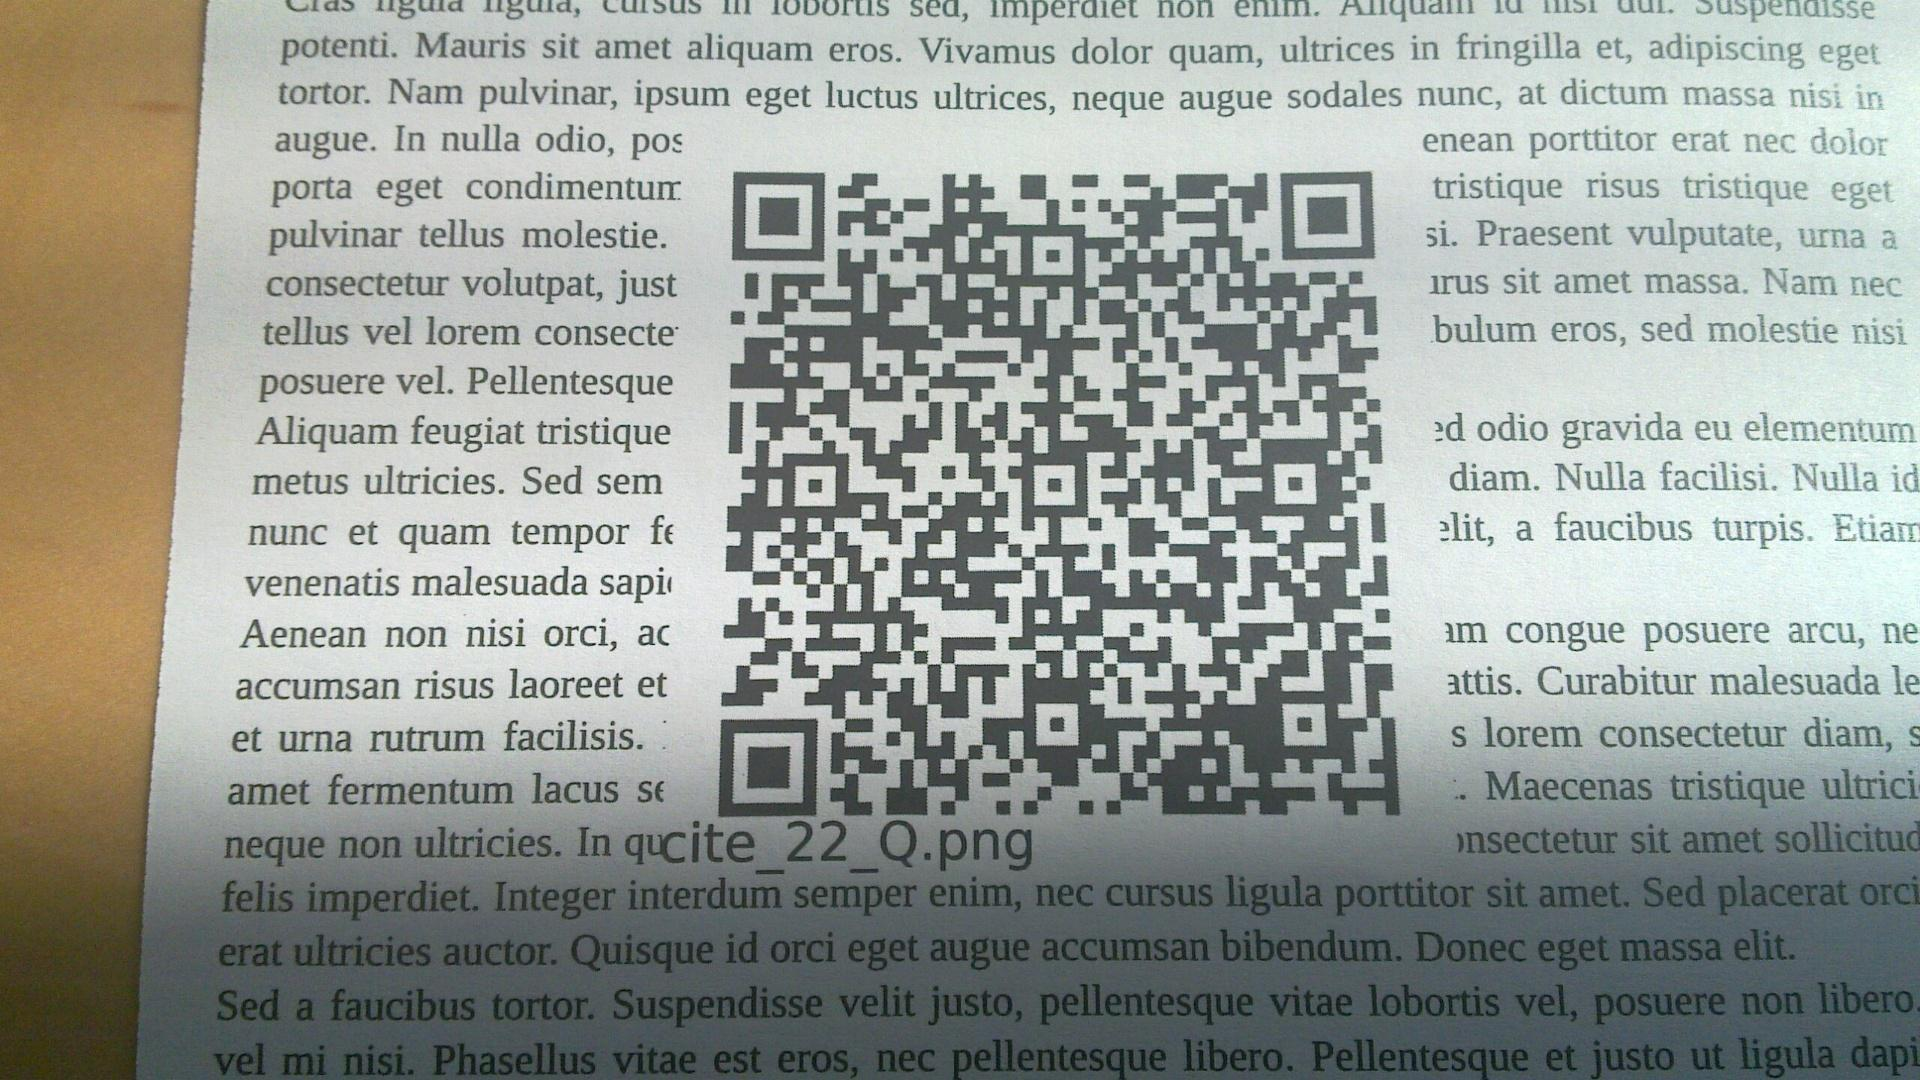qr_code: (716, 167, 1402, 819)
